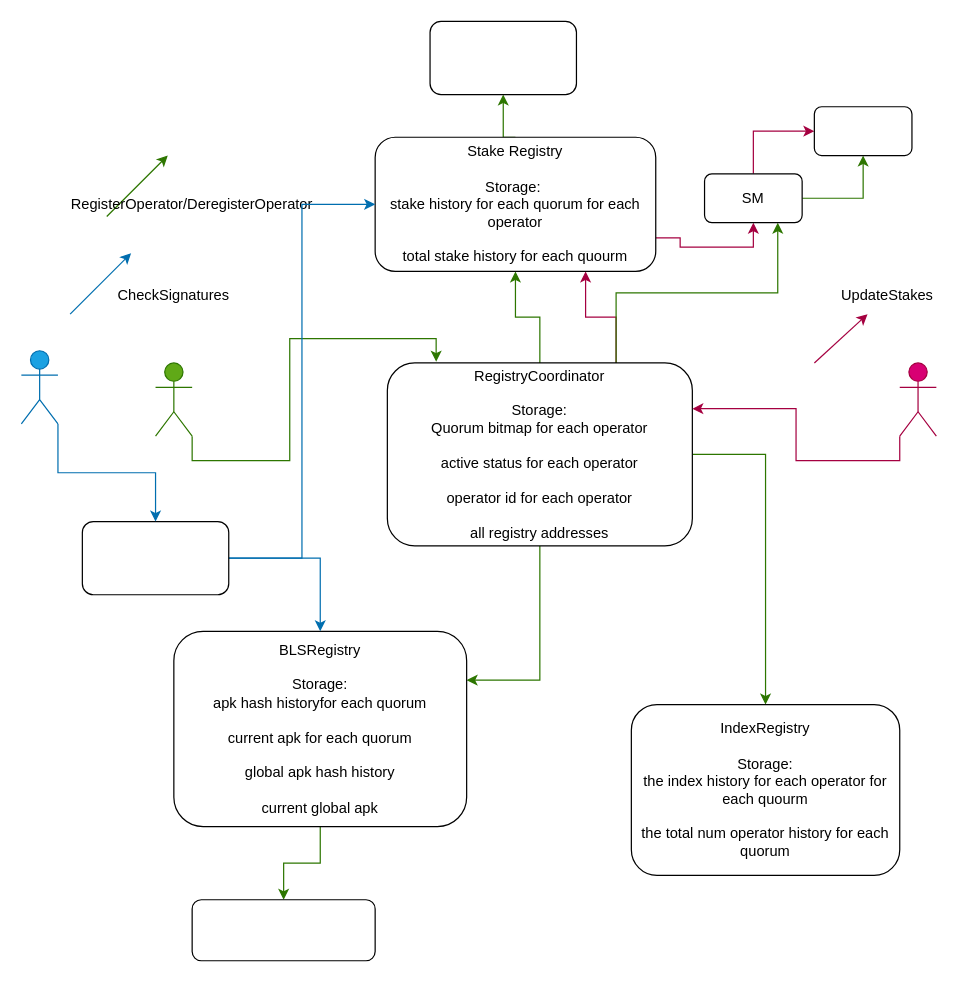
Some shapes in this 958 by 982 pixel diagram are drawn without their labels. Each missing label, with the box of its shape:
BLSPubkeyCompendium: (191, 899, 375, 961)
BLSSigChecker: (81, 520, 229, 595)
DelegationManager: (429, 20, 576, 95)
Slasher: (813, 106, 912, 156)
